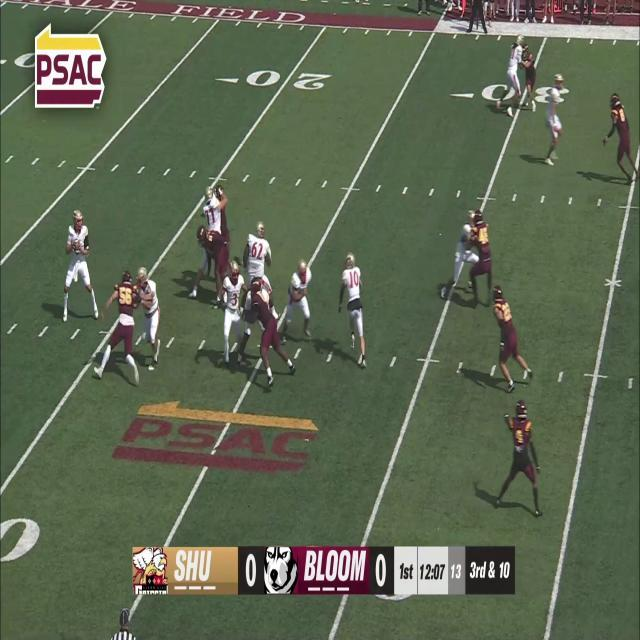football: (73, 238, 80, 254)
